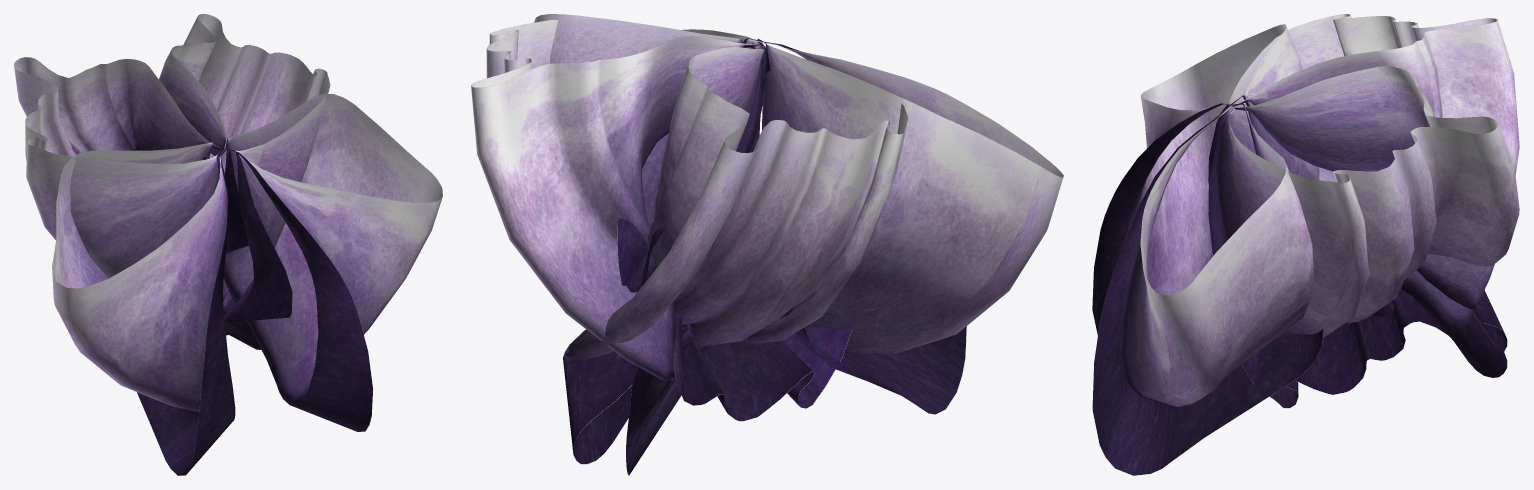
Rendered from Shinobu_Spl_Fly.fbx.
3 views of the same model, side by side, from view 1: azimuth 30°, elevation 25°; view 2: azimuth 150°, elevation 25°; view 3: azimuth 270°, elevation 25° (orthographic). The views are drawn at different scales.
Parts seen in each view (by area): view 1: SM_d_e_P0011_V00_C00_SplTwm_c040_BFveil_01; view 2: SM_d_e_P0011_V00_C00_SplTwm_c040_BFveil_01; view 3: SM_d_e_P0011_V00_C00_SplTwm_c040_BFveil_01.
Part boxes in pixels (x1,y1,x2,y2): SM_d_e_P0011_V00_C00_SplTwm_c040_BFveil_01: (14, 14, 442, 475); SM_d_e_P0011_V00_C00_SplTwm_c040_BFveil_01: (471, 14, 1063, 475); SM_d_e_P0011_V00_C00_SplTwm_c040_BFveil_01: (1092, 14, 1519, 475).
Bounding box in the file's own units: 386 × 302 × 318.
